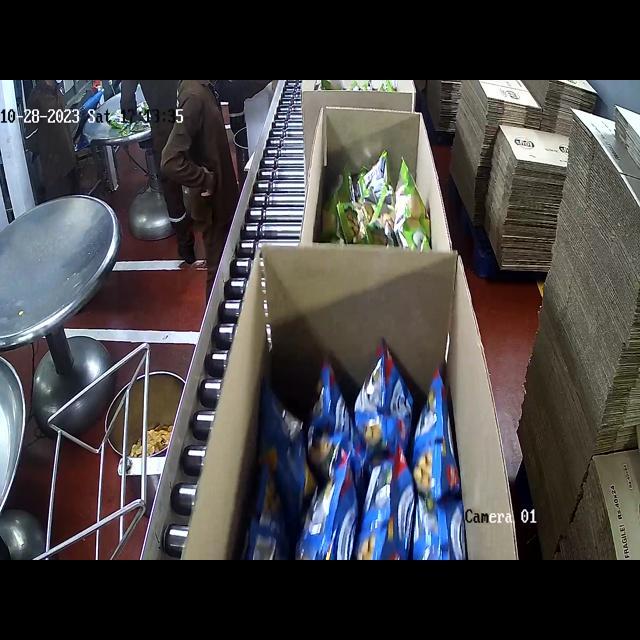paprika: (274, 360, 462, 556)
yogurt: (324, 158, 430, 247)
